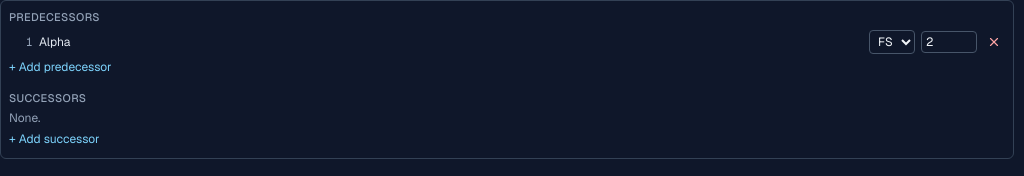
it: TaskLinks lag (review 4b93d732 #4) › Escape, an empty field or an out-of-range lag restore the value without saving
Step 1. Replace the text in the number field named "Lag of the link with Alpha" with "9" → (949, 42), box [921, 30, 977, 52]
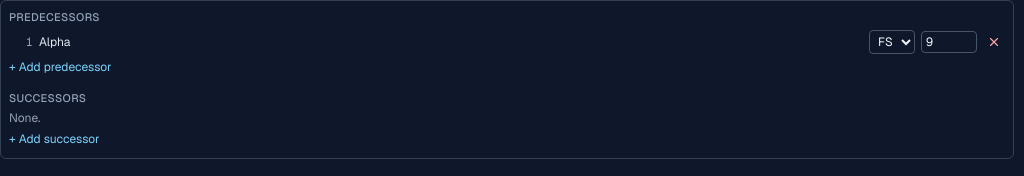
Step 2. Press Escape in the number field named "Lag of the link with Alpha", box [921, 30, 977, 52]
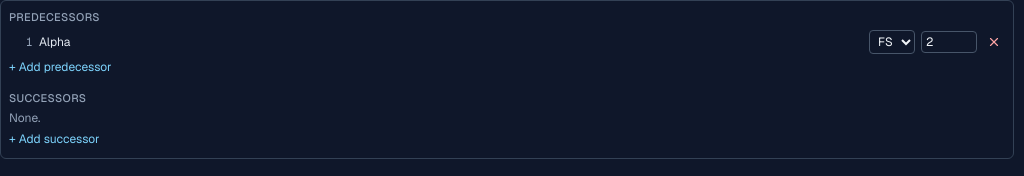
Step 3. Leave the number field named "Lag of the link with Alpha", box [921, 30, 977, 52]
expect the number field named "Lag of the link with Alpha" holds "2": met
Step 4. Clear the number field named "Lag of the link with Alpha" → (949, 42), box [921, 30, 977, 52]
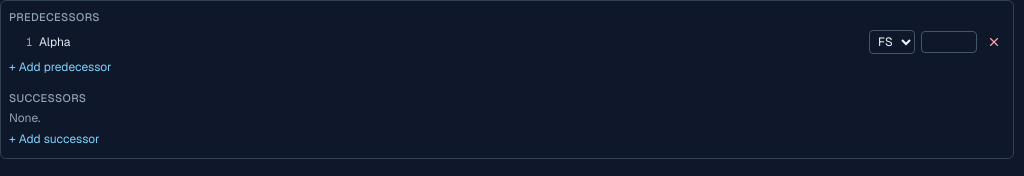
Step 5. Leave the number field named "Lag of the link with Alpha", box [921, 30, 977, 52]
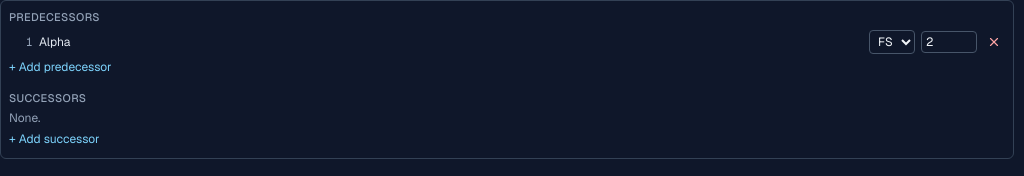
expect the number field named "Lag of the link with Alpha" holds "2": met
Step 6. Replace the text in the number field named "Lag of the link with Alpha" with "99999" → (949, 42), box [921, 30, 977, 52]
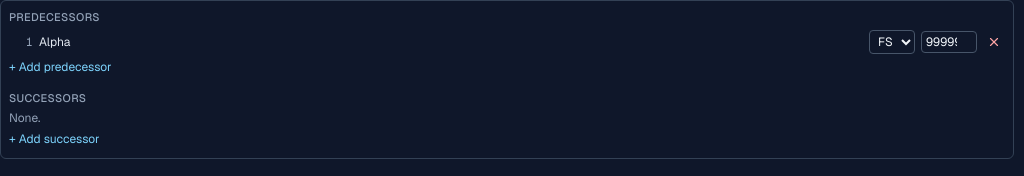
Step 7. Leave the number field named "Lag of the link with Alpha", box [921, 30, 977, 52]
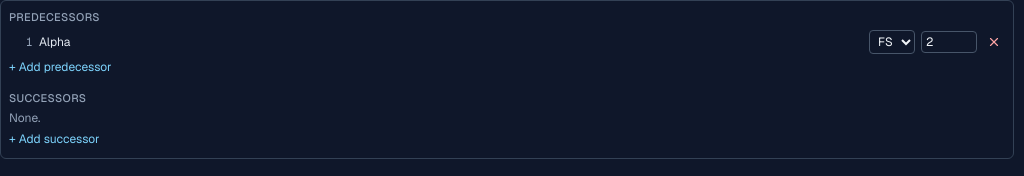
expect the number field named "Lag of the link with Alpha" holds "2": met, box [921, 30, 977, 52]
